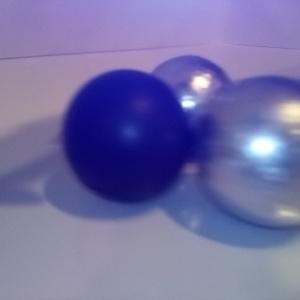alive_ball: (194, 74, 300, 227), (142, 53, 237, 163)
dead_ball: (61, 67, 192, 203)
